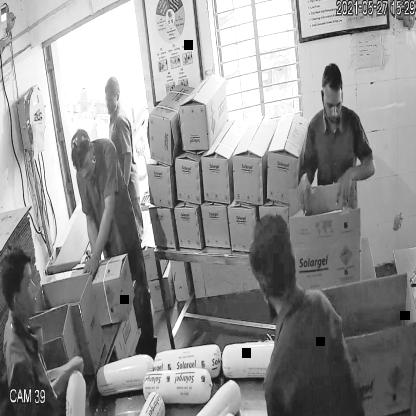no_goggles: (323, 94, 346, 114)
